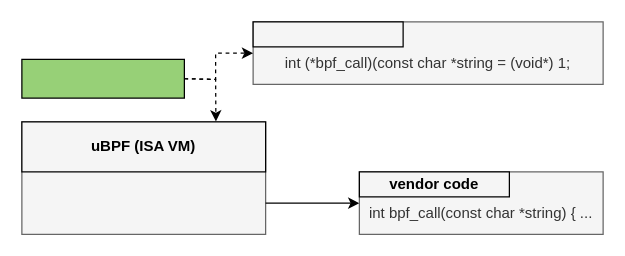
Some shapes in this 625 by 256 pixel diagram are drawn without their labels. Each missing label, with the box of its shape:
syscall header: (252, 21, 403, 47)
User eBPF bytecode: (21, 58, 184, 98)
